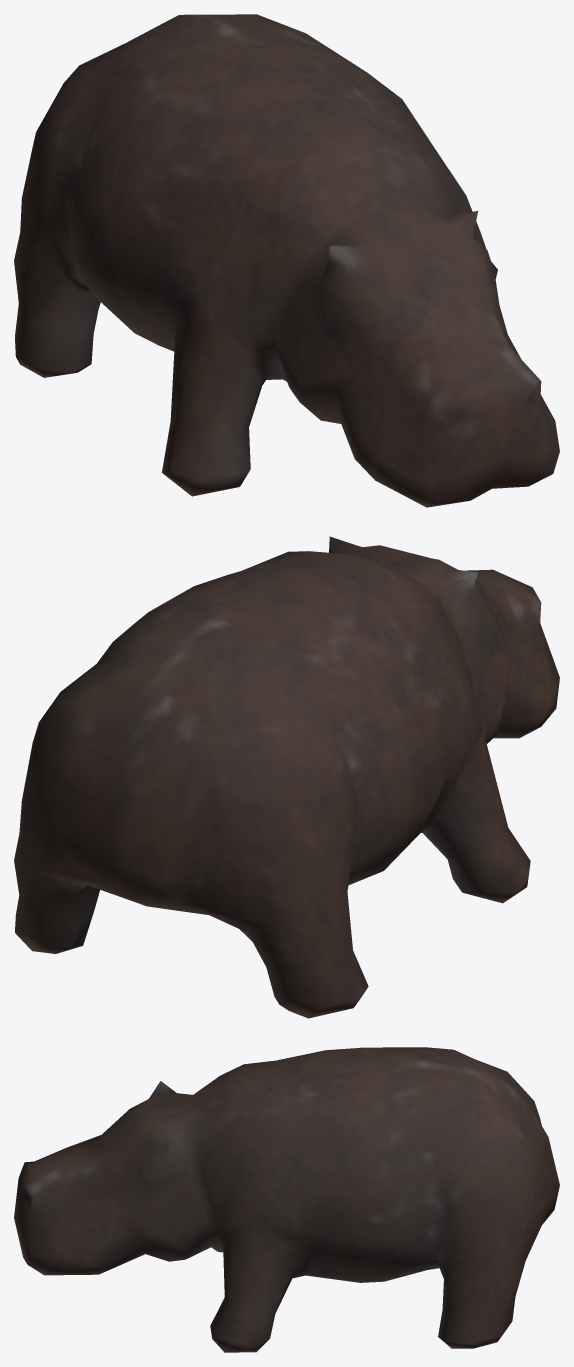
The model's file is SM_StatueB.fbx.
3 renders of one model, top to bottom at view 1: azimuth 30°, elevation 25°; view 2: azimuth 150°, elevation 25°; view 3: azimuth 270°, elevation 25°, orthographic. The views are drawn at different scales.
Visible parts, largest first — view 1: SM_StatueB_LOD0; view 2: SM_StatueB_LOD0; view 3: SM_StatueB_LOD0.
Part boxes in pixels (x1=…): SM_StatueB_LOD0: x1=14, y1=14, x2=559, y2=507; SM_StatueB_LOD0: x1=14, y1=536, x2=559, y2=1018; SM_StatueB_LOD0: x1=14, y1=1047, x2=559, y2=1352.
Bounding box in the file's own units: 16.65 × 30.59 × 14.39.
1 material, 1 textured.
